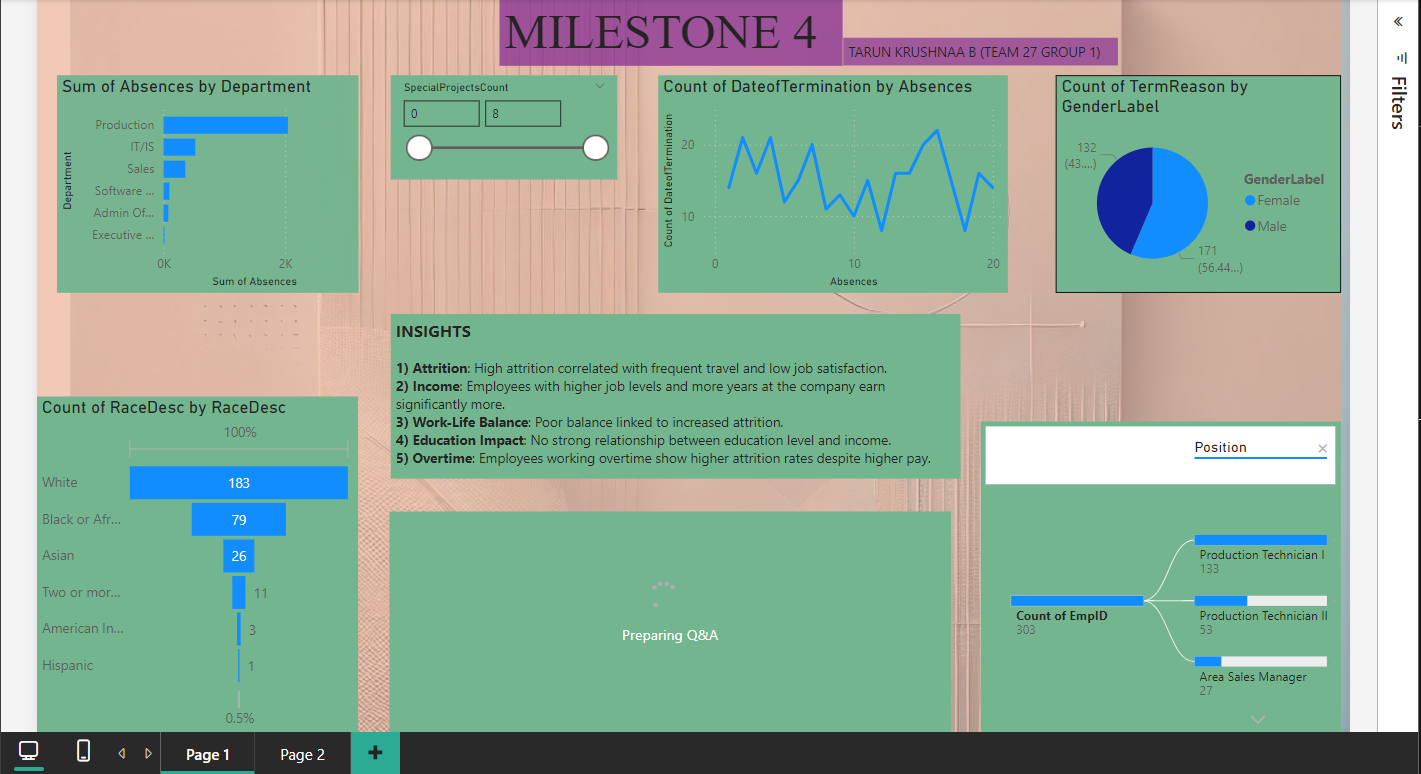

The dashboard page shown, as its layout file describes it:
{"tool":"powerbi","page":{"name":"Page 1","canvas":[1280,720],"ordinal":0},"visuals":[{"type":"barChart","fields":{"Category":["HRDataset_v14.Department"],"Y":["Sum(HRDataset_v14.Absences)"]},"box":[19.6,74.8,295.7,213.5],"z":0},{"type":"funnel","fields":{"Category":["HRDataset_v14.RaceDesc"],"Y":["CountNonNull(HRDataset_v14.RaceDesc)"]},"box":[0,390.2,315.3,330.1],"z":1000},{"type":"qnaVisual","box":[346,503.1,550.9,217.2],"z":2000},{"type":"pieChart","fields":{"Category":["HRDataset_v14.GenderLabel"],"Y":["CountNonNull(HRDataset_v14.TermReason)"]},"box":[1000,74.8,279.8,213.5],"z":3000},{"type":"textbox","box":[347.2,309.2,559.5,162],"z":4000},{"type":"decompositionTreeVisual","fields":{"ExplainBy":["HRDataset_v14.Position","HRDataset_v14.TermReason","HRDataset_v14.EngagementSurvey","HRDataset_v14.LastPerformanceReview_Date"],"Analyze":["CountNonNull(HRDataset_v14.EmpID)"]},"box":[926.4,414.7,353.4,305.5],"z":5000},{"type":"slicer","fields":{"Values":["HRDataset_v14.SpecialProjectsCount"]},"box":[347.1,74.6,222.7,102],"z":6000},{"type":"textbox","box":[454,0,337.1,65.9],"z":7000},{"type":"textbox","box":[791.2,38.6,269.9,27.4],"z":8000},{"type":"lineChart","fields":{"Category":["HRDataset_v14.Absences"],"Y":["CountNonNull(HRDataset_v14.DateofTermination)"]},"box":[609.8,74.8,343.6,213.5],"z":9000}]}

Visuals, with their boxes on the page's 1280x720 design canvas (x1, y1, x2, y2). These are canvas units, not pixel positions in the 1421x774 screenshot, which may show the page scaled, cropped or inside an application window:
barChart - HRDataset_v14.Department x Sum(HRDataset_v14.Absences): 20,75,315,288
funnel - HRDataset_v14.RaceDesc x CountNonNull(HRDataset_v14.RaceDesc): 0,390,315,720
qnaVisual: 346,503,897,720
pieChart - HRDataset_v14.GenderLabel x CountNonNull(HRDataset_v14.TermReason): 1000,75,1280,288
textbox: 347,309,907,471
decompositionTreeVisual - HRDataset_v14.Position x HRDataset_v14.TermReason: 926,415,1280,720
slicer - HRDataset_v14.SpecialProjectsCount: 347,75,570,177
textbox: 454,0,791,66
textbox: 791,39,1061,66
lineChart - HRDataset_v14.Absences x CountNonNull(HRDataset_v14.DateofTermination): 610,75,953,288
